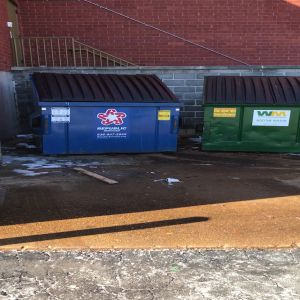Dumpster: (26, 71, 180, 155), (198, 73, 300, 153)
